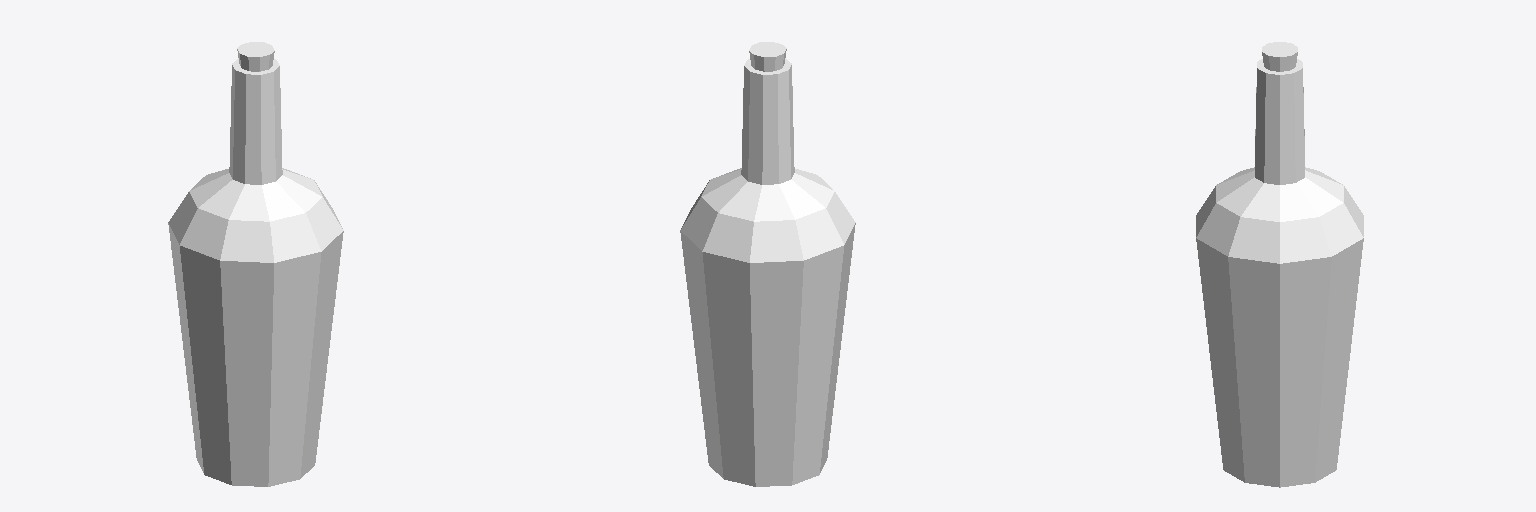
Rendered from Whisky Bottle.obj.
The picture shows the model from 3 angles: view 1: azimuth 30°, elevation 25°; view 2: azimuth 150°, elevation 25°; view 3: azimuth 270°, elevation 25°; orthographic projection.
Visible parts, largest first — view 1: Whisky Bottle; view 2: Whisky Bottle; view 3: Whisky Bottle.
Part boxes in pixels (x1,y1,x2,y2): Whisky Bottle: (168, 42, 343, 486); Whisky Bottle: (680, 42, 855, 486); Whisky Bottle: (1196, 42, 1363, 487).
Bounding box in the file's own units: 0.1157 × 0.2989 × 0.1101.